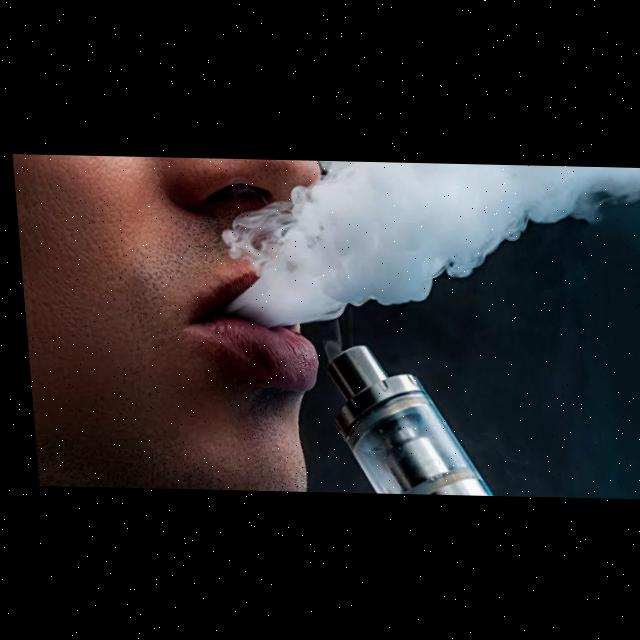vape: (318, 343, 485, 494)
